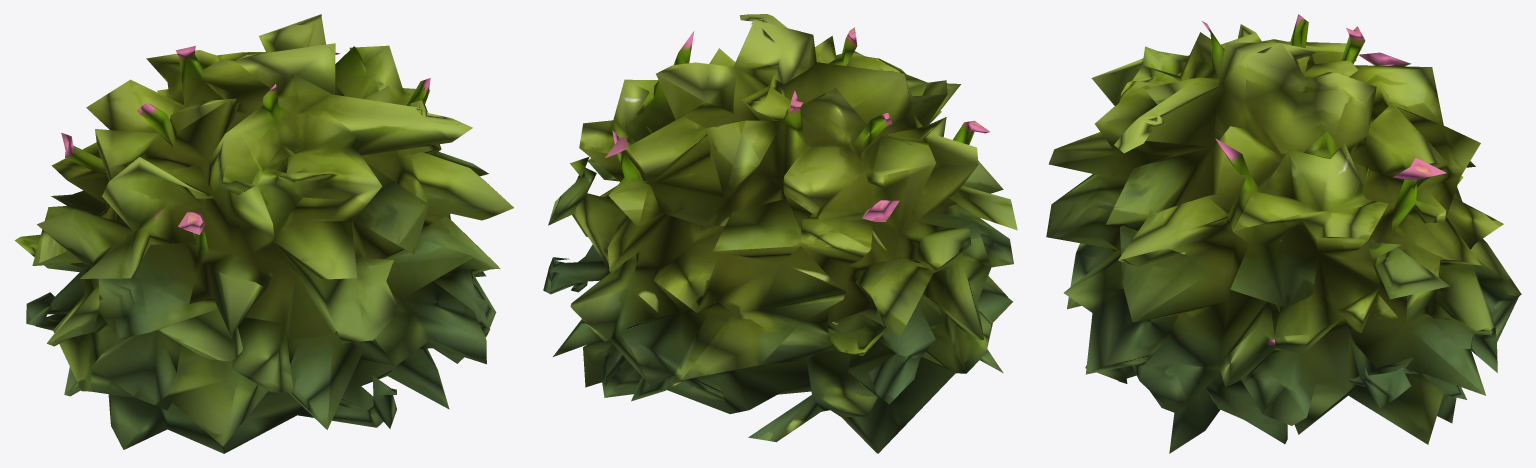
The model's file is env-bush.glb.
3 views of the same model, side by side, from view 1: azimuth 30°, elevation 25°; view 2: azimuth 150°, elevation 25°; view 3: azimuth 270°, elevation 25° (orthographic). The views are drawn at different scales.
Visible parts, largest first — view 1: tripo_node_eec9e25f-6da2-4b9d-87eb-b2f38925eb1d; view 2: tripo_node_eec9e25f-6da2-4b9d-87eb-b2f38925eb1d; view 3: tripo_node_eec9e25f-6da2-4b9d-87eb-b2f38925eb1d.
Part boxes in pixels (x1,y1,x2,y2): tripo_node_eec9e25f-6da2-4b9d-87eb-b2f38925eb1d: (15,14,513,453); tripo_node_eec9e25f-6da2-4b9d-87eb-b2f38925eb1d: (543,14,1017,453); tripo_node_eec9e25f-6da2-4b9d-87eb-b2f38925eb1d: (1046,14,1521,453).
Bounding box in the file's own units: 0.9794 × 0.7723 × 0.9235.
1 material, 1 textured.
